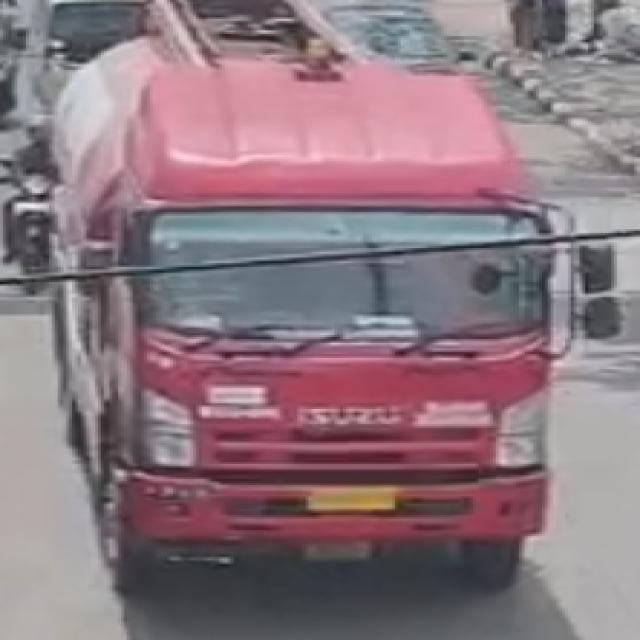Truck: (47, 22, 588, 594)
